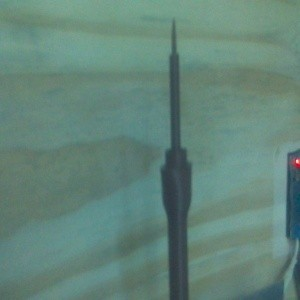solder: (159, 18, 193, 300)
